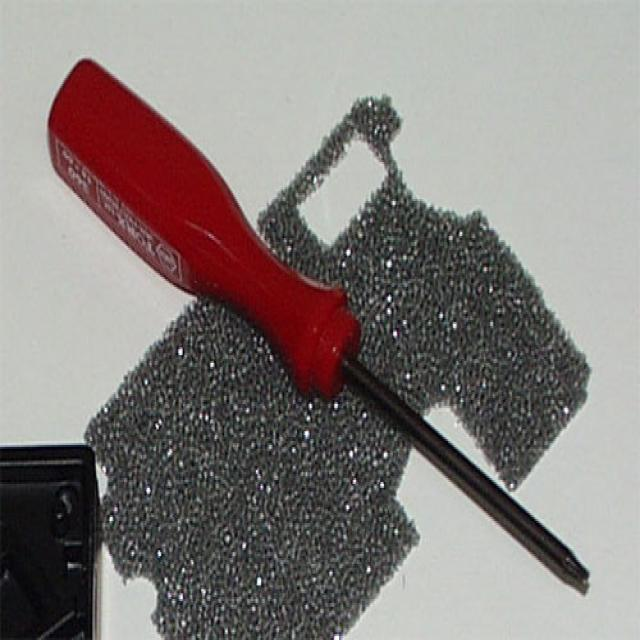screwdriver: (39, 47, 604, 608)
